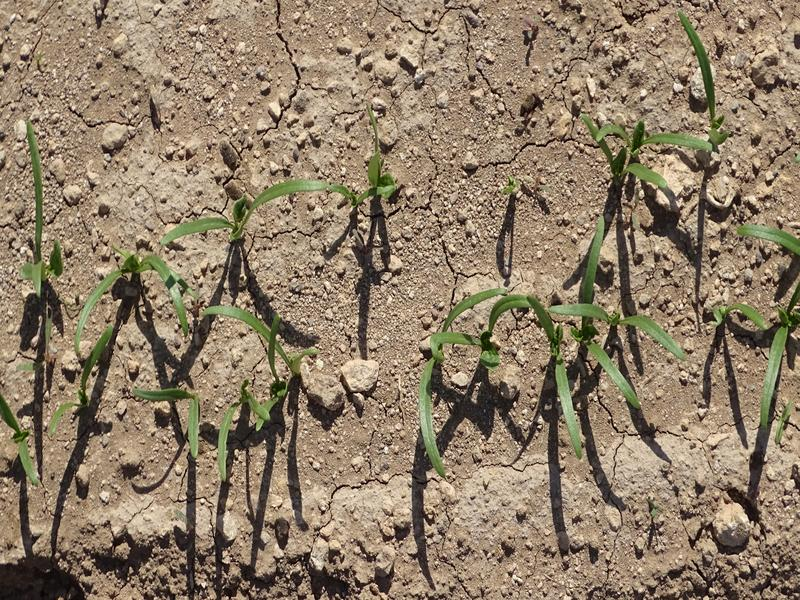Espinaca: (402, 249, 686, 463), (66, 256, 302, 463), (166, 149, 393, 247), (719, 223, 800, 430), (590, 108, 714, 202), (21, 130, 66, 297), (1, 397, 44, 485)
